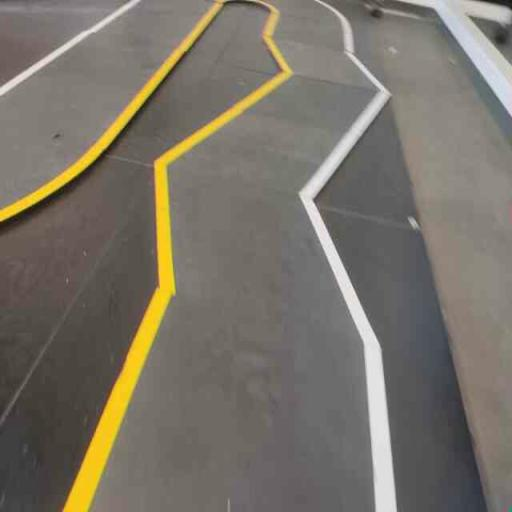crossleft: (135, 154, 437, 362)
